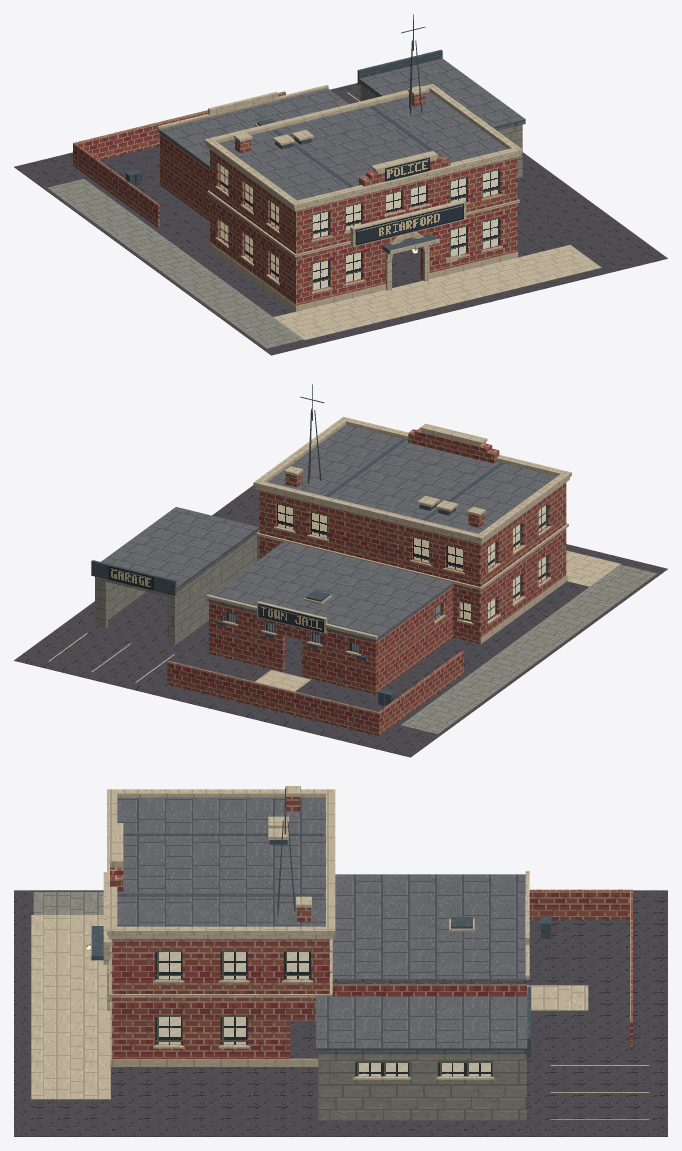
The model's file is briarford-1940-mid.glb.
3 renders of one model, top to bottom at view 1: azimuth 30°, elevation 25°; view 2: azimuth 150°, elevation 25°; view 3: azimuth 270°, elevation 25°, orthographic. The views are drawn at different scales.
Visible parts, largest first — view 1: shell, lot, yard_fence, sign_name; view 2: shell, lot, yard_fence; view 3: shell, lot, yard_fence.
Boxes of the visible parts, <box> form: shell: <box>157,50,525,311</box>; lot: <box>14,83,667,355</box>; yard_fence: <box>73,91,285,227</box>; sign_name: <box>355,203,463,245</box>; shell: <box>91,416,571,693</box>; lot: <box>14,485,667,757</box>; yard_fence: <box>167,650,463,735</box>; shell: <box>87,786,530,1120</box>; lot: <box>14,890,667,1136</box>; yard_fence: <box>529,889,632,1049</box>.
Bounding box in the file's own units: 26.7 × 13 × 30.
Materials: 11 (11 with a texture image).
